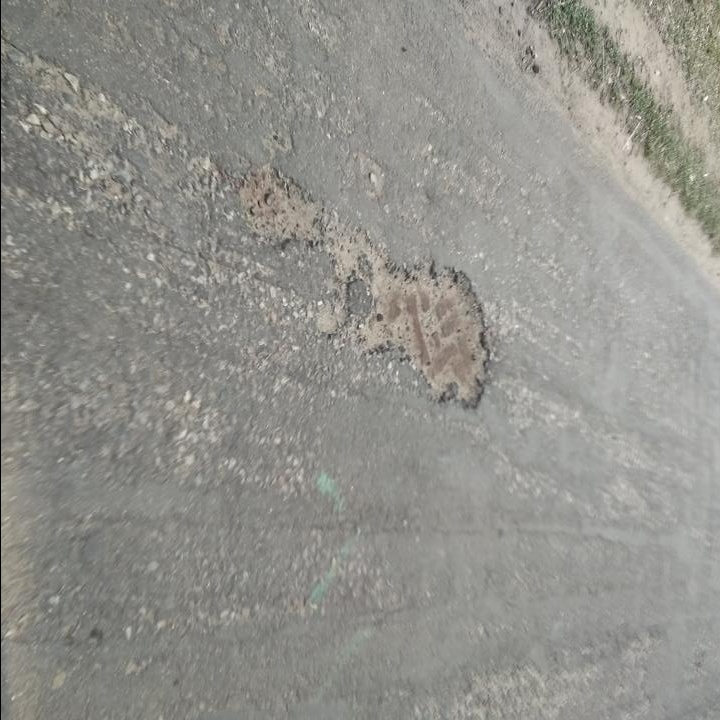pothole: (360, 254, 497, 411), (239, 159, 327, 249)
